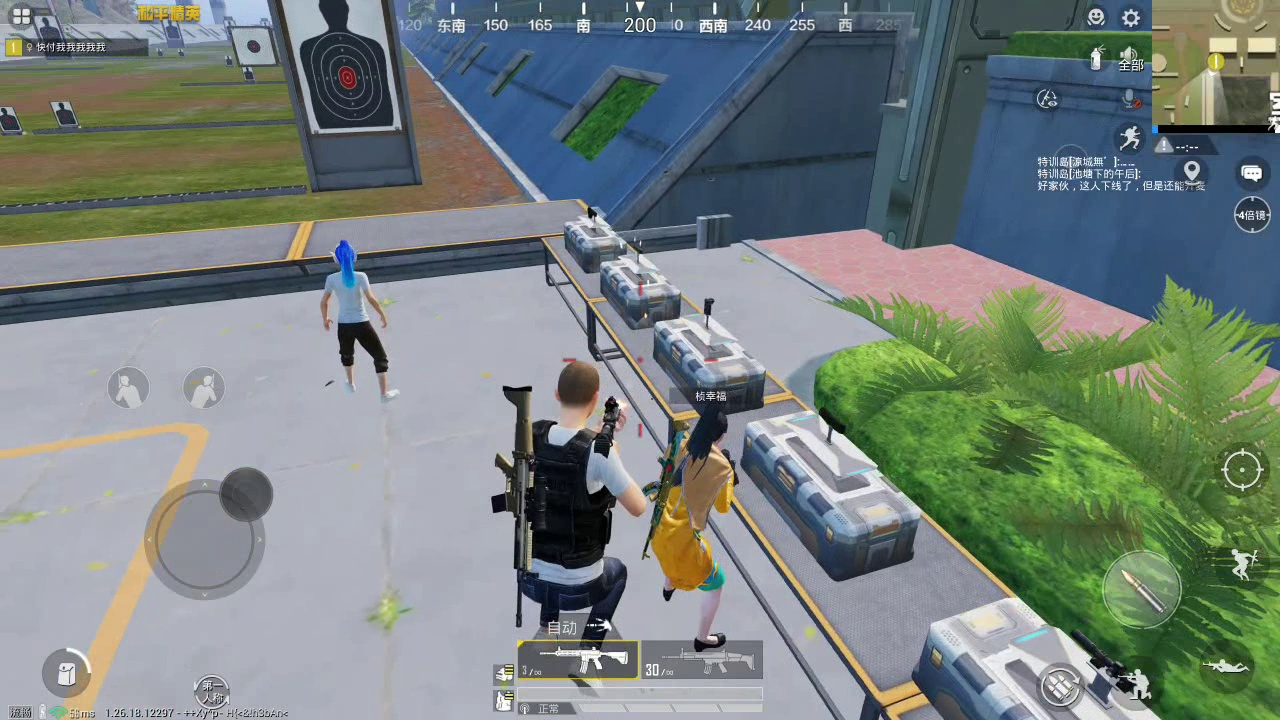enemy: (646, 413, 726, 652), (320, 242, 402, 402)
